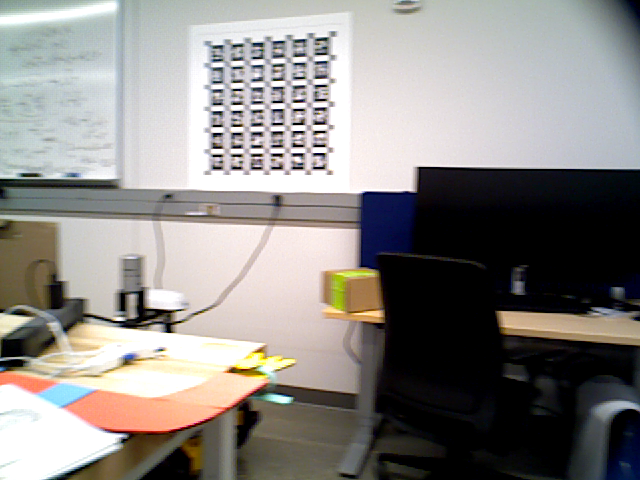painting4: (191, 12, 348, 190)
